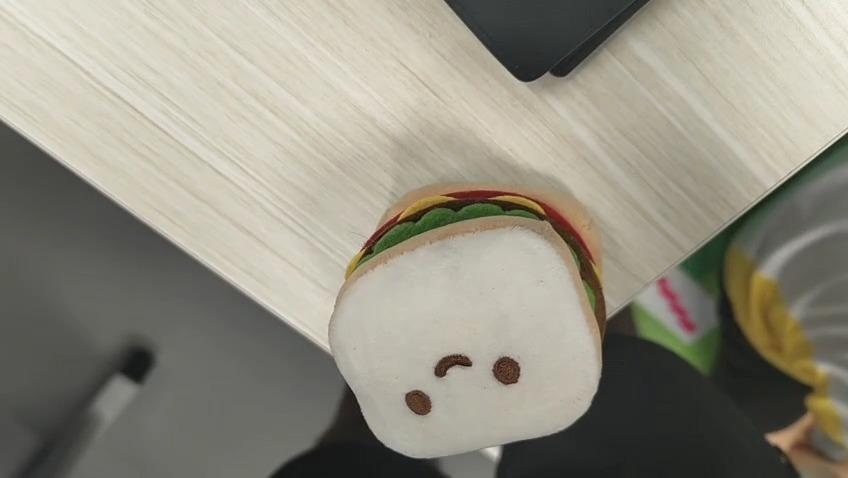objects: (319, 183, 609, 461)
